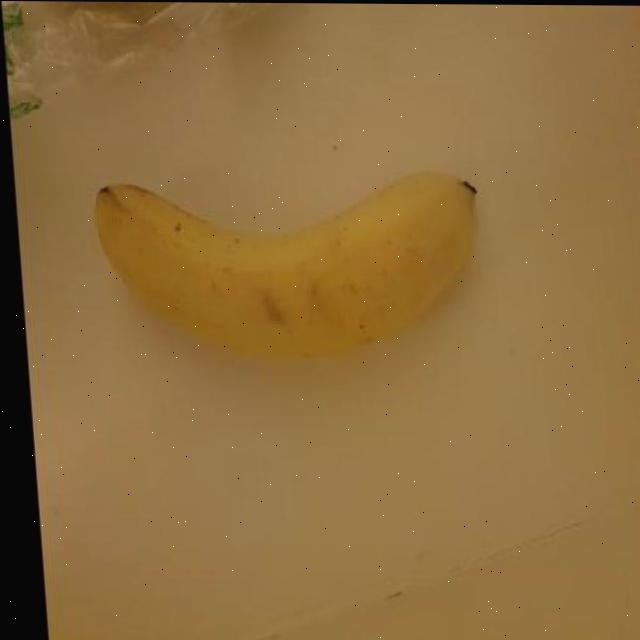banana: (79, 152, 501, 386)
